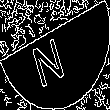N_N: (35, 23, 75, 87)
